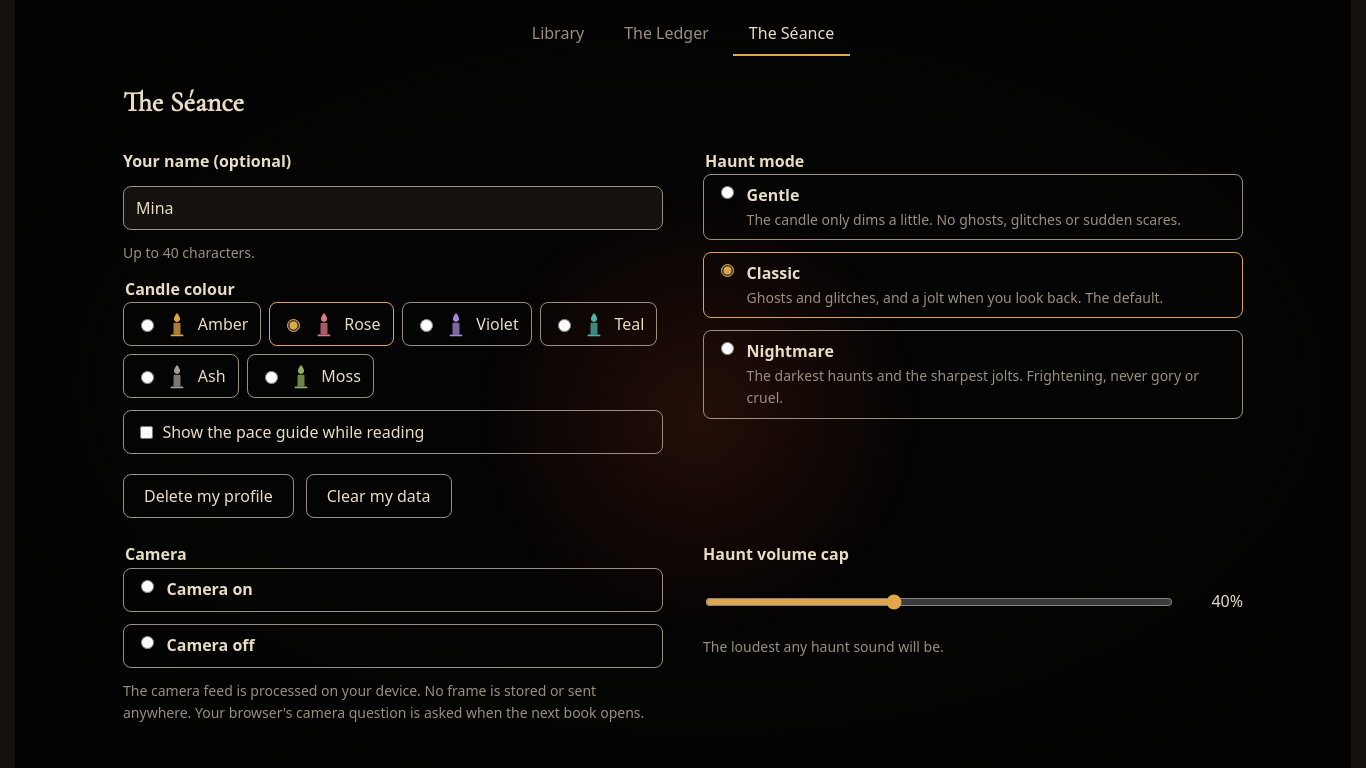
it: Delete my profile and Clear my data confirmations (Req 2.x, 12.4) › a successful clear removes the three shell keys, keeps others, and the tab shows defaults
The width and height of the screenshot is (1366, 768).
# Volume slider moved and a choice made, then everything else is set directly.
Set the slider labelled "Haunt volume cap" to "80" at (1075, 602), box [705,594,1173,610]
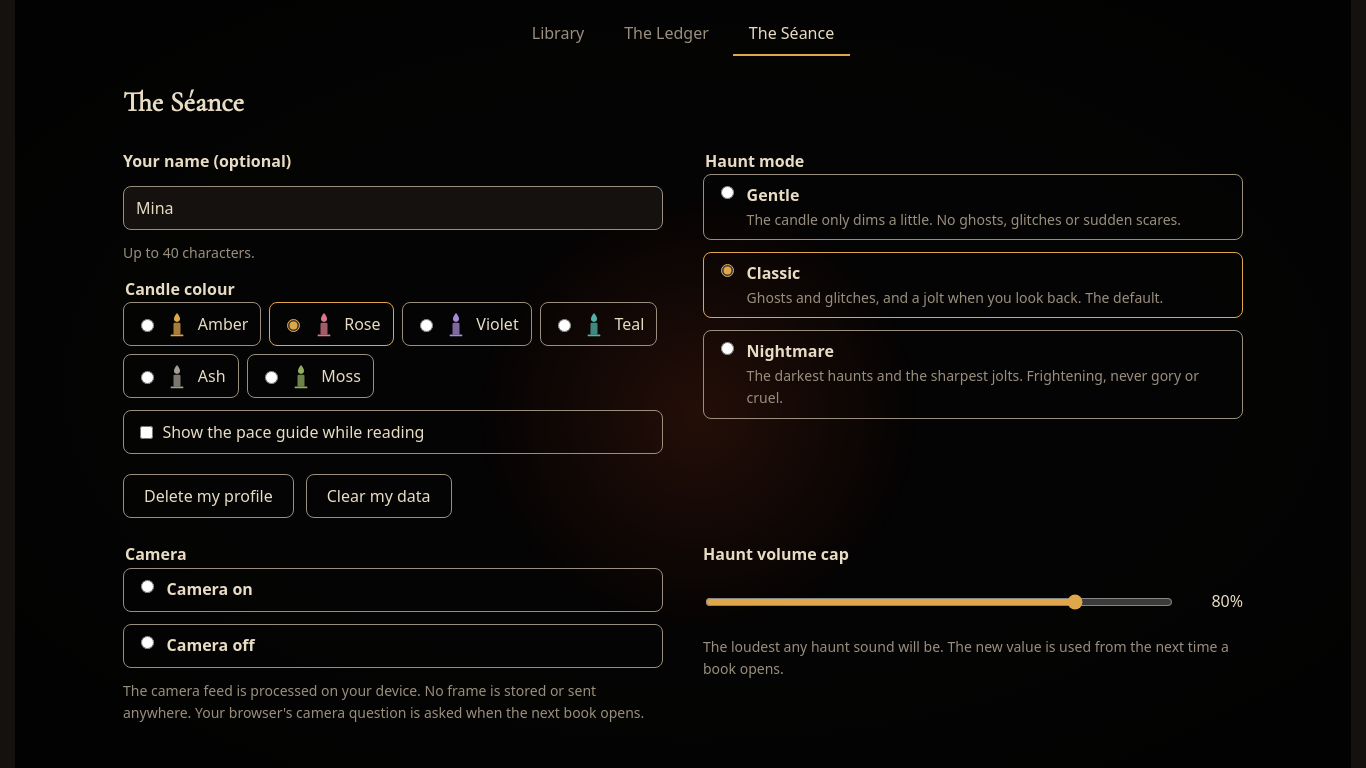
Click the button "Clear my data".
click(379, 496)  # box [306,474,452,518]
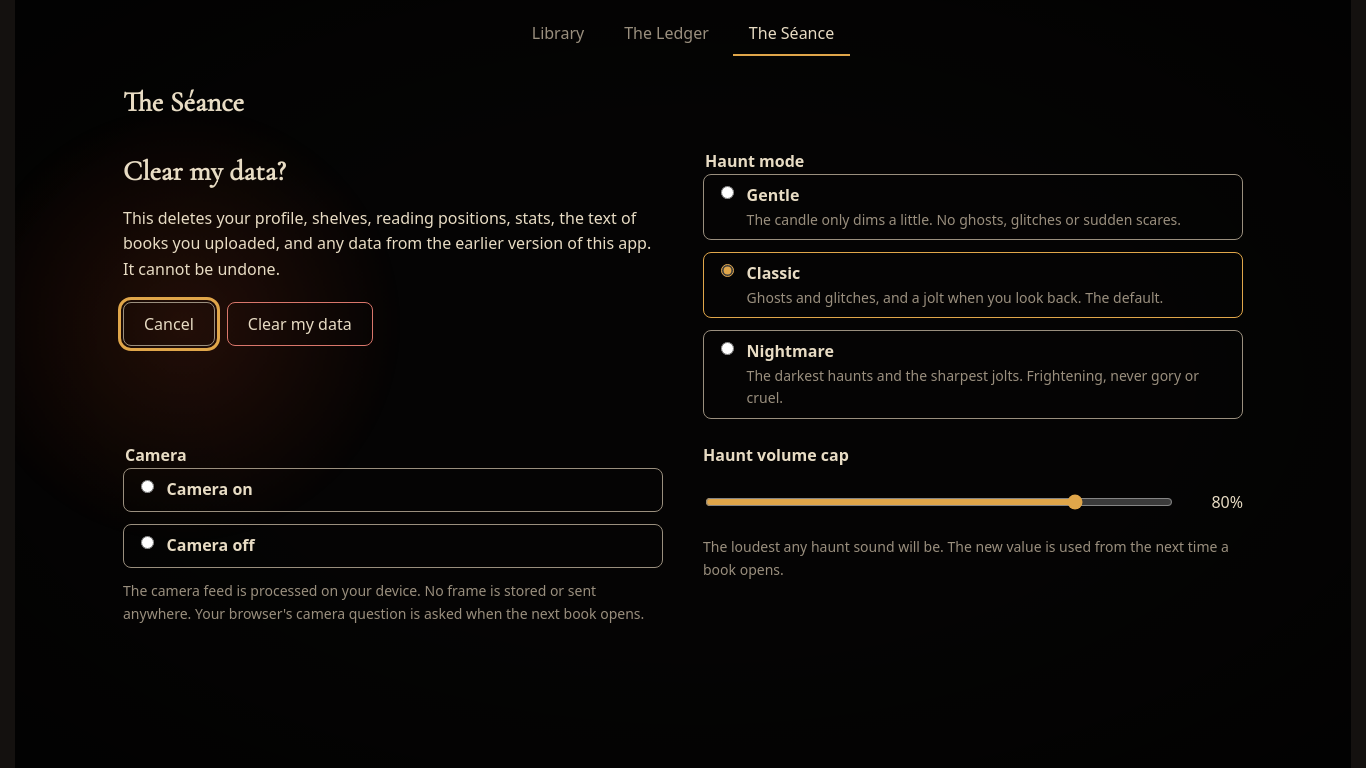
Click the button "Clear my data".
click(300, 324)  # box [227,302,373,346]
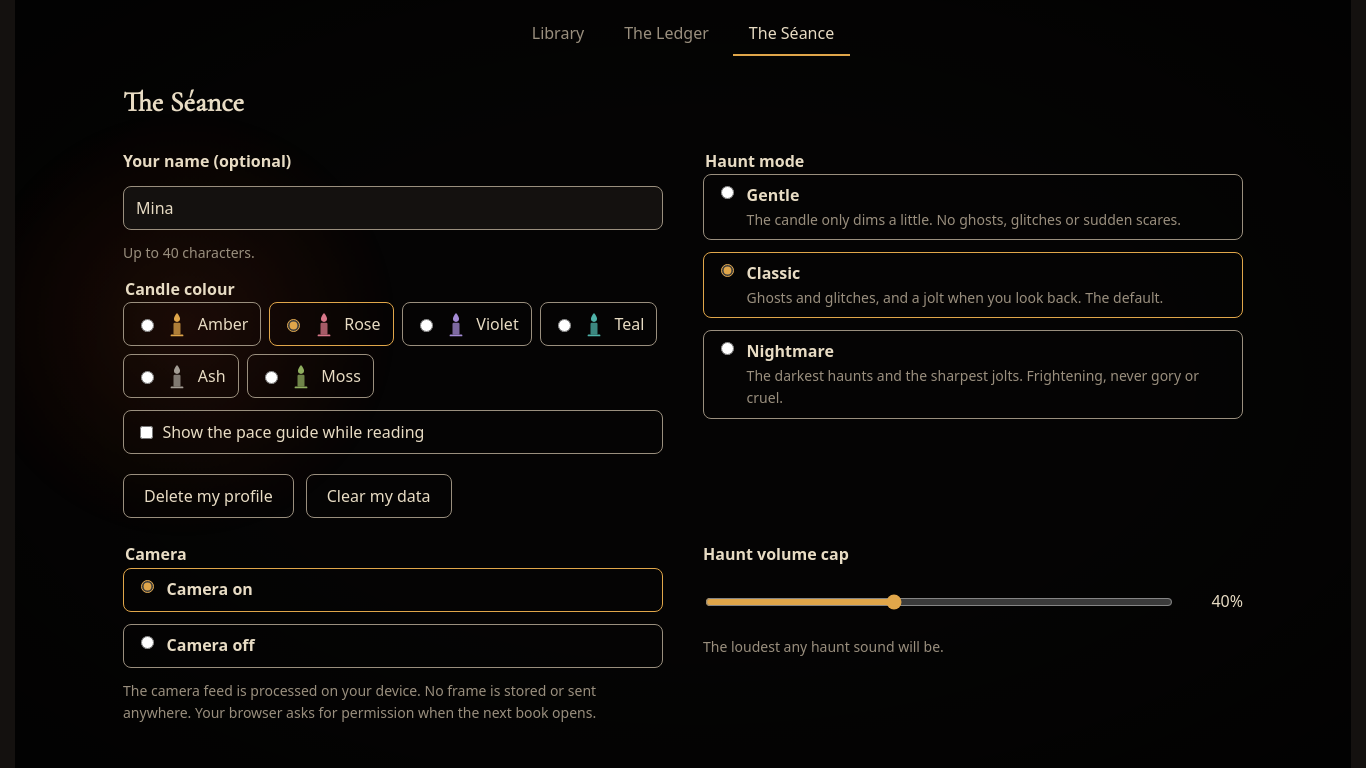
Expected: the heading "Clear my data?" is not shown
Expected: the slider labelled "Haunt volume cap" holds "40", [705,594,1173,610]
